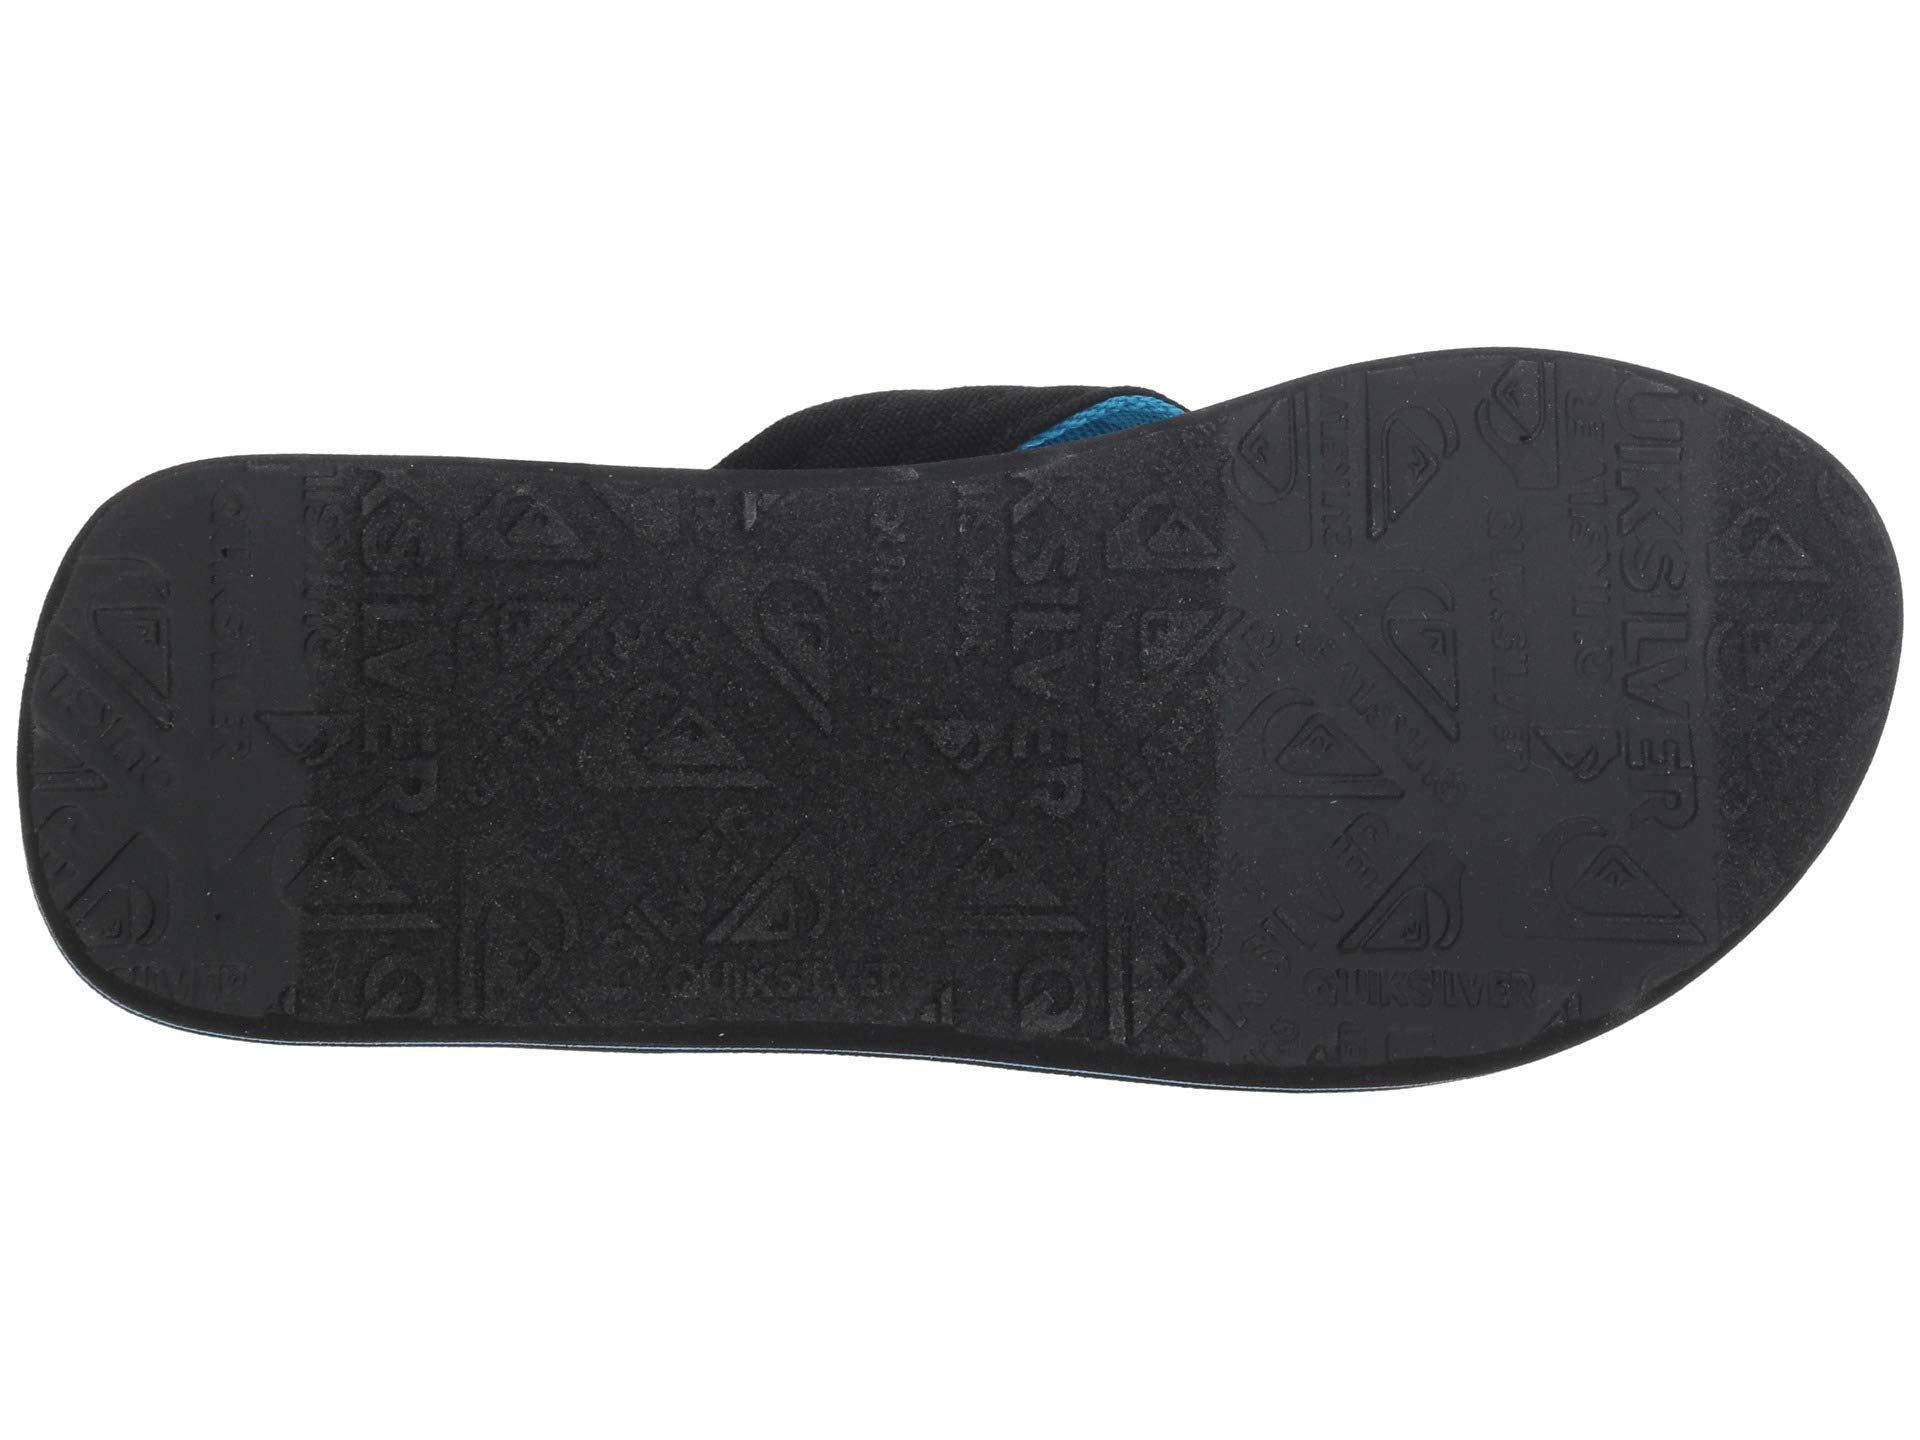line: (924, 464, 1277, 1088), (237, 821, 466, 957)
other: (1538, 340, 1728, 833)
text: (924, 464, 1277, 1088), (1538, 340, 1728, 833)
triangle: (924, 464, 1277, 1088), (1538, 340, 1728, 833), (683, 557, 862, 746), (237, 821, 466, 957)
